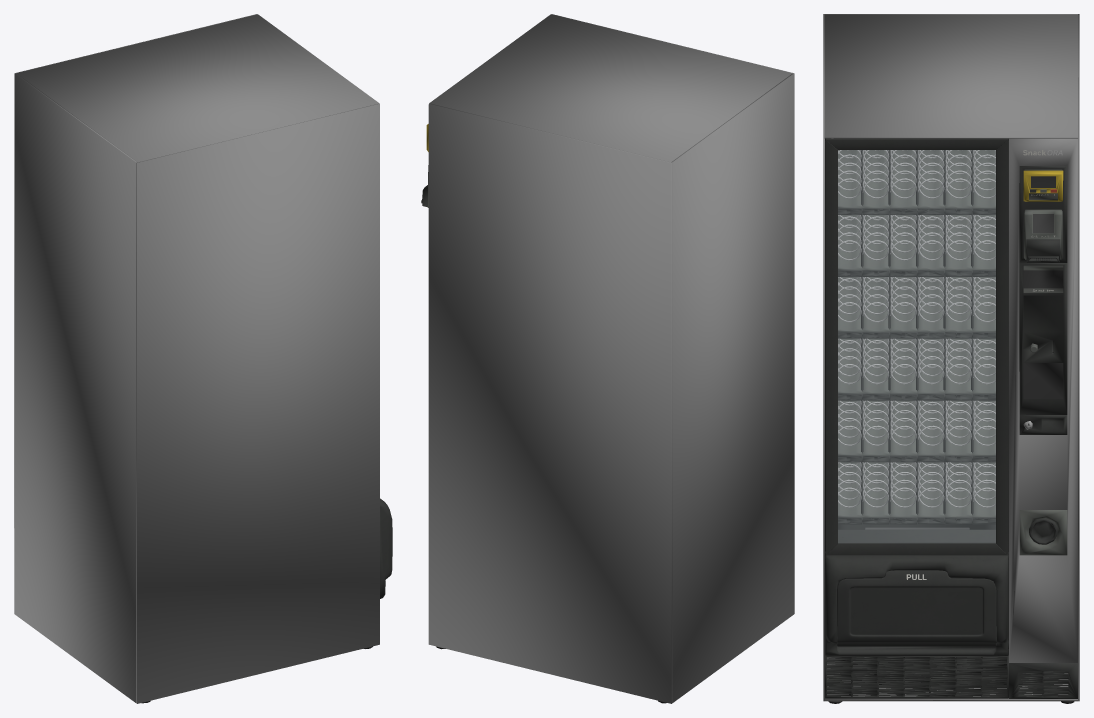
File: snackVendingMachine.glb
3 renders of one model, left to right at view 1: azimuth 30°, elevation 25°; view 2: azimuth 150°, elevation 25°; view 3: azimuth 270°, elevation 25°, orthographic. The views are drawn at different scales.
Parts seen in each view (by area): view 1: body_01_mesh_00; view 2: body_01_mesh_00; view 3: body_01_mesh_00, glass_01_mesh_00, door_01_mesh_00, lid_01_mesh_00, spring_03_mesh_00, spring_02_mesh_00, spring_05_mesh_00, spring_04_mesh_00, spring_35_mesh_00, spring_22_mesh_00, spring_33_mesh_00, spring_27_mesh_00 (+28 smaller).
Part boxes in pixels (x1,y1,x2,y2): body_01_mesh_00: [14, 14, 392, 703]; body_01_mesh_00: [421, 14, 794, 703]; body_01_mesh_00: [823, 14, 1079, 703]; glass_01_mesh_00: [838, 150, 995, 542]; door_01_mesh_00: [825, 138, 1008, 555]; lid_01_mesh_00: [837, 570, 996, 646]; spring_03_mesh_00: [890, 150, 916, 198]; spring_02_mesh_00: [862, 150, 889, 198]; spring_05_mesh_00: [945, 150, 971, 198]; spring_04_mesh_00: [918, 150, 944, 198]; spring_35_mesh_00: [945, 462, 971, 507]; spring_22_mesh_00: [918, 338, 944, 384]; spring_33_mesh_00: [890, 462, 916, 507]; spring_27_mesh_00: [890, 400, 916, 445].
Size of the model in its own units: 0.9256 by 1.85 by 0.7554.
Materials: 13 (10 with a texture image).
